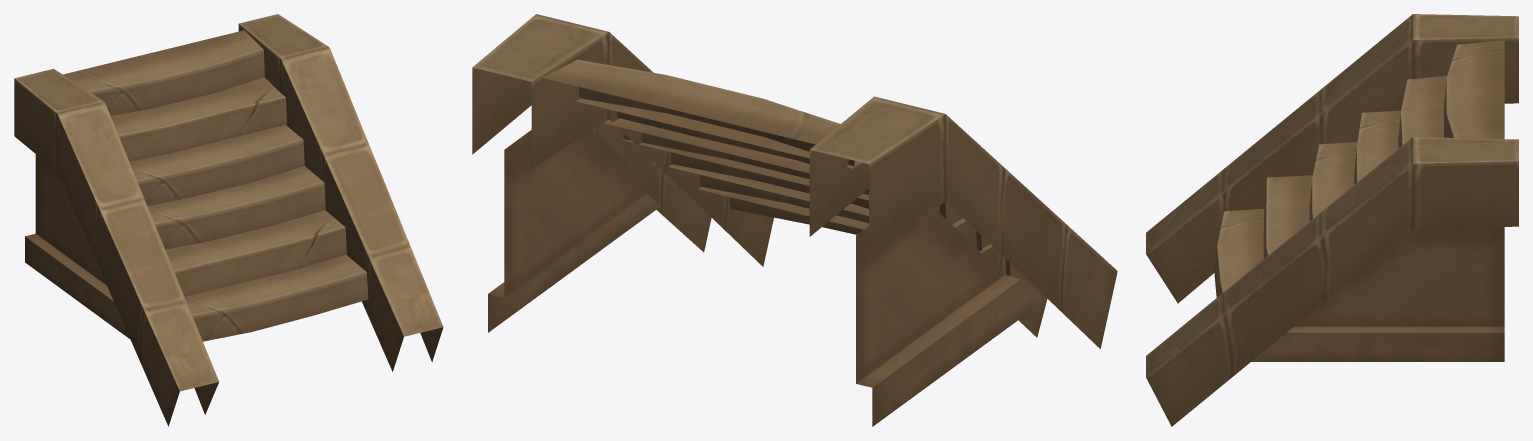
The model's file is desert_dungeon_prop_5.FBX.
3 renders of one model, left to right at view 1: azimuth 30°, elevation 25°; view 2: azimuth 150°, elevation 25°; view 3: azimuth 270°, elevation 25°, orthographic. The views are drawn at different scales.
Parts seen in each view (by area): view 1: Object014; view 2: Object014; view 3: Object014.
Part boxes in pixels (box(x1,y1,x2,y2)): Object014: box(14, 14, 443, 426); Object014: box(472, 14, 1117, 426); Object014: box(1146, 14, 1518, 426).
Size of the model in its own units: 62.94 by 66.26 by 52.13.
